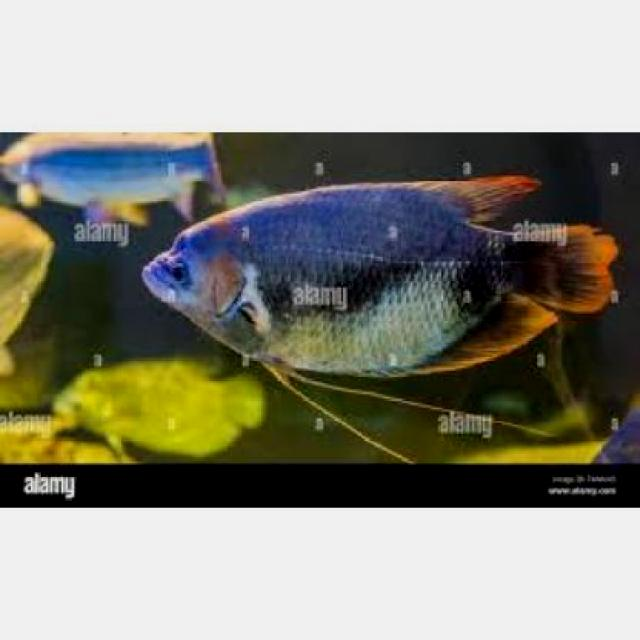gurame: (146, 179, 608, 375)
